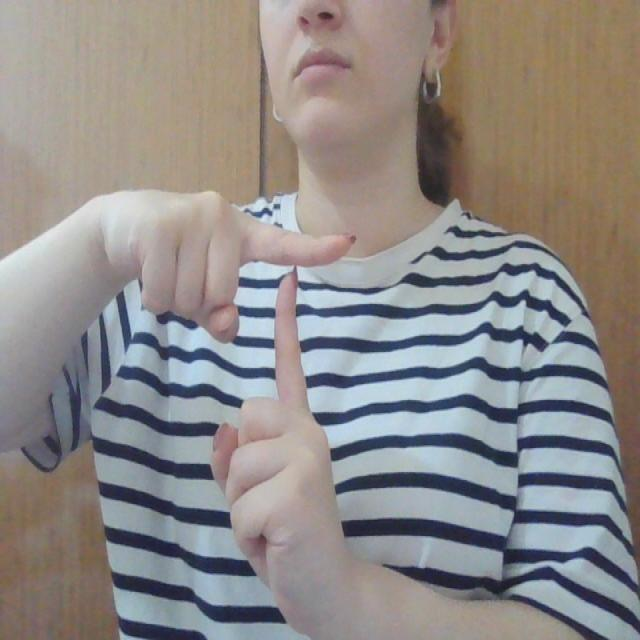Tesekkurler: (246, 193, 376, 440)
